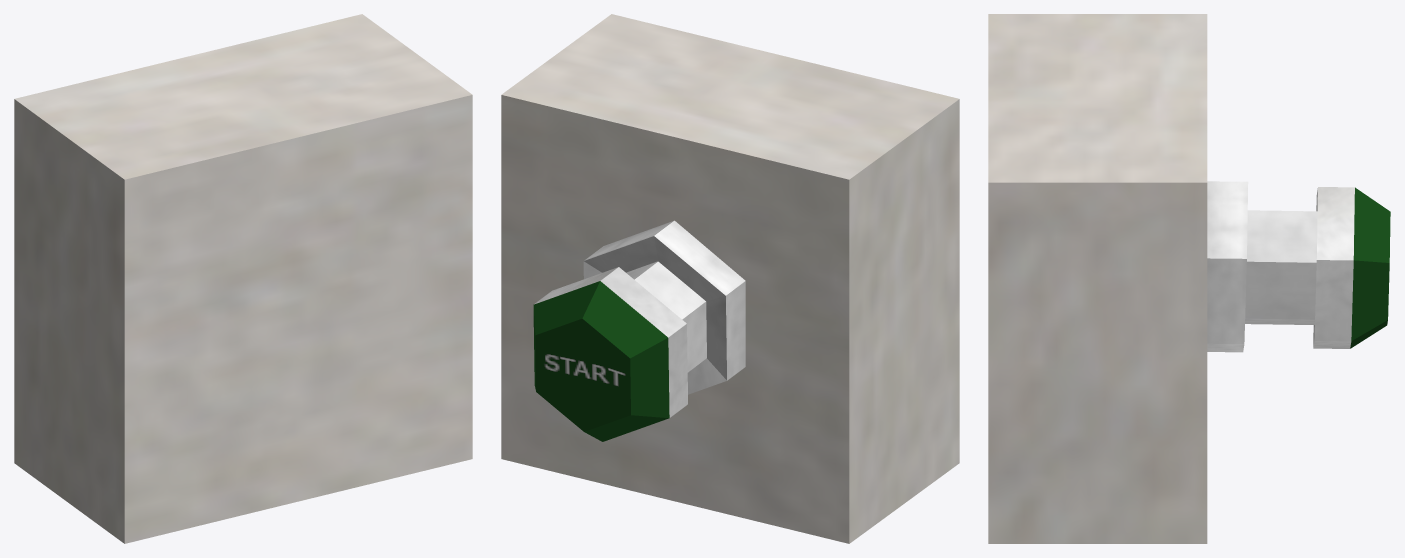
Rendered from botaoiniciar.fbx.
3 views of the same model, side by side, from view 1: azimuth 30°, elevation 25°; view 2: azimuth 150°, elevation 25°; view 3: azimuth 270°, elevation 25° (orthographic).
Parts seen in each view (by area): view 1: Cube; view 2: Cube; view 3: Cube.
Part boxes in pixels (<box>): Cube: <box>14,14,472,543</box>; Cube: <box>501,14,959,543</box>; Cube: <box>988,14,1390,543</box>.
Size of the model in its own units: 200 by 200 by 202.
